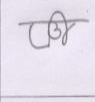i_matra: (53, 10, 72, 45)
